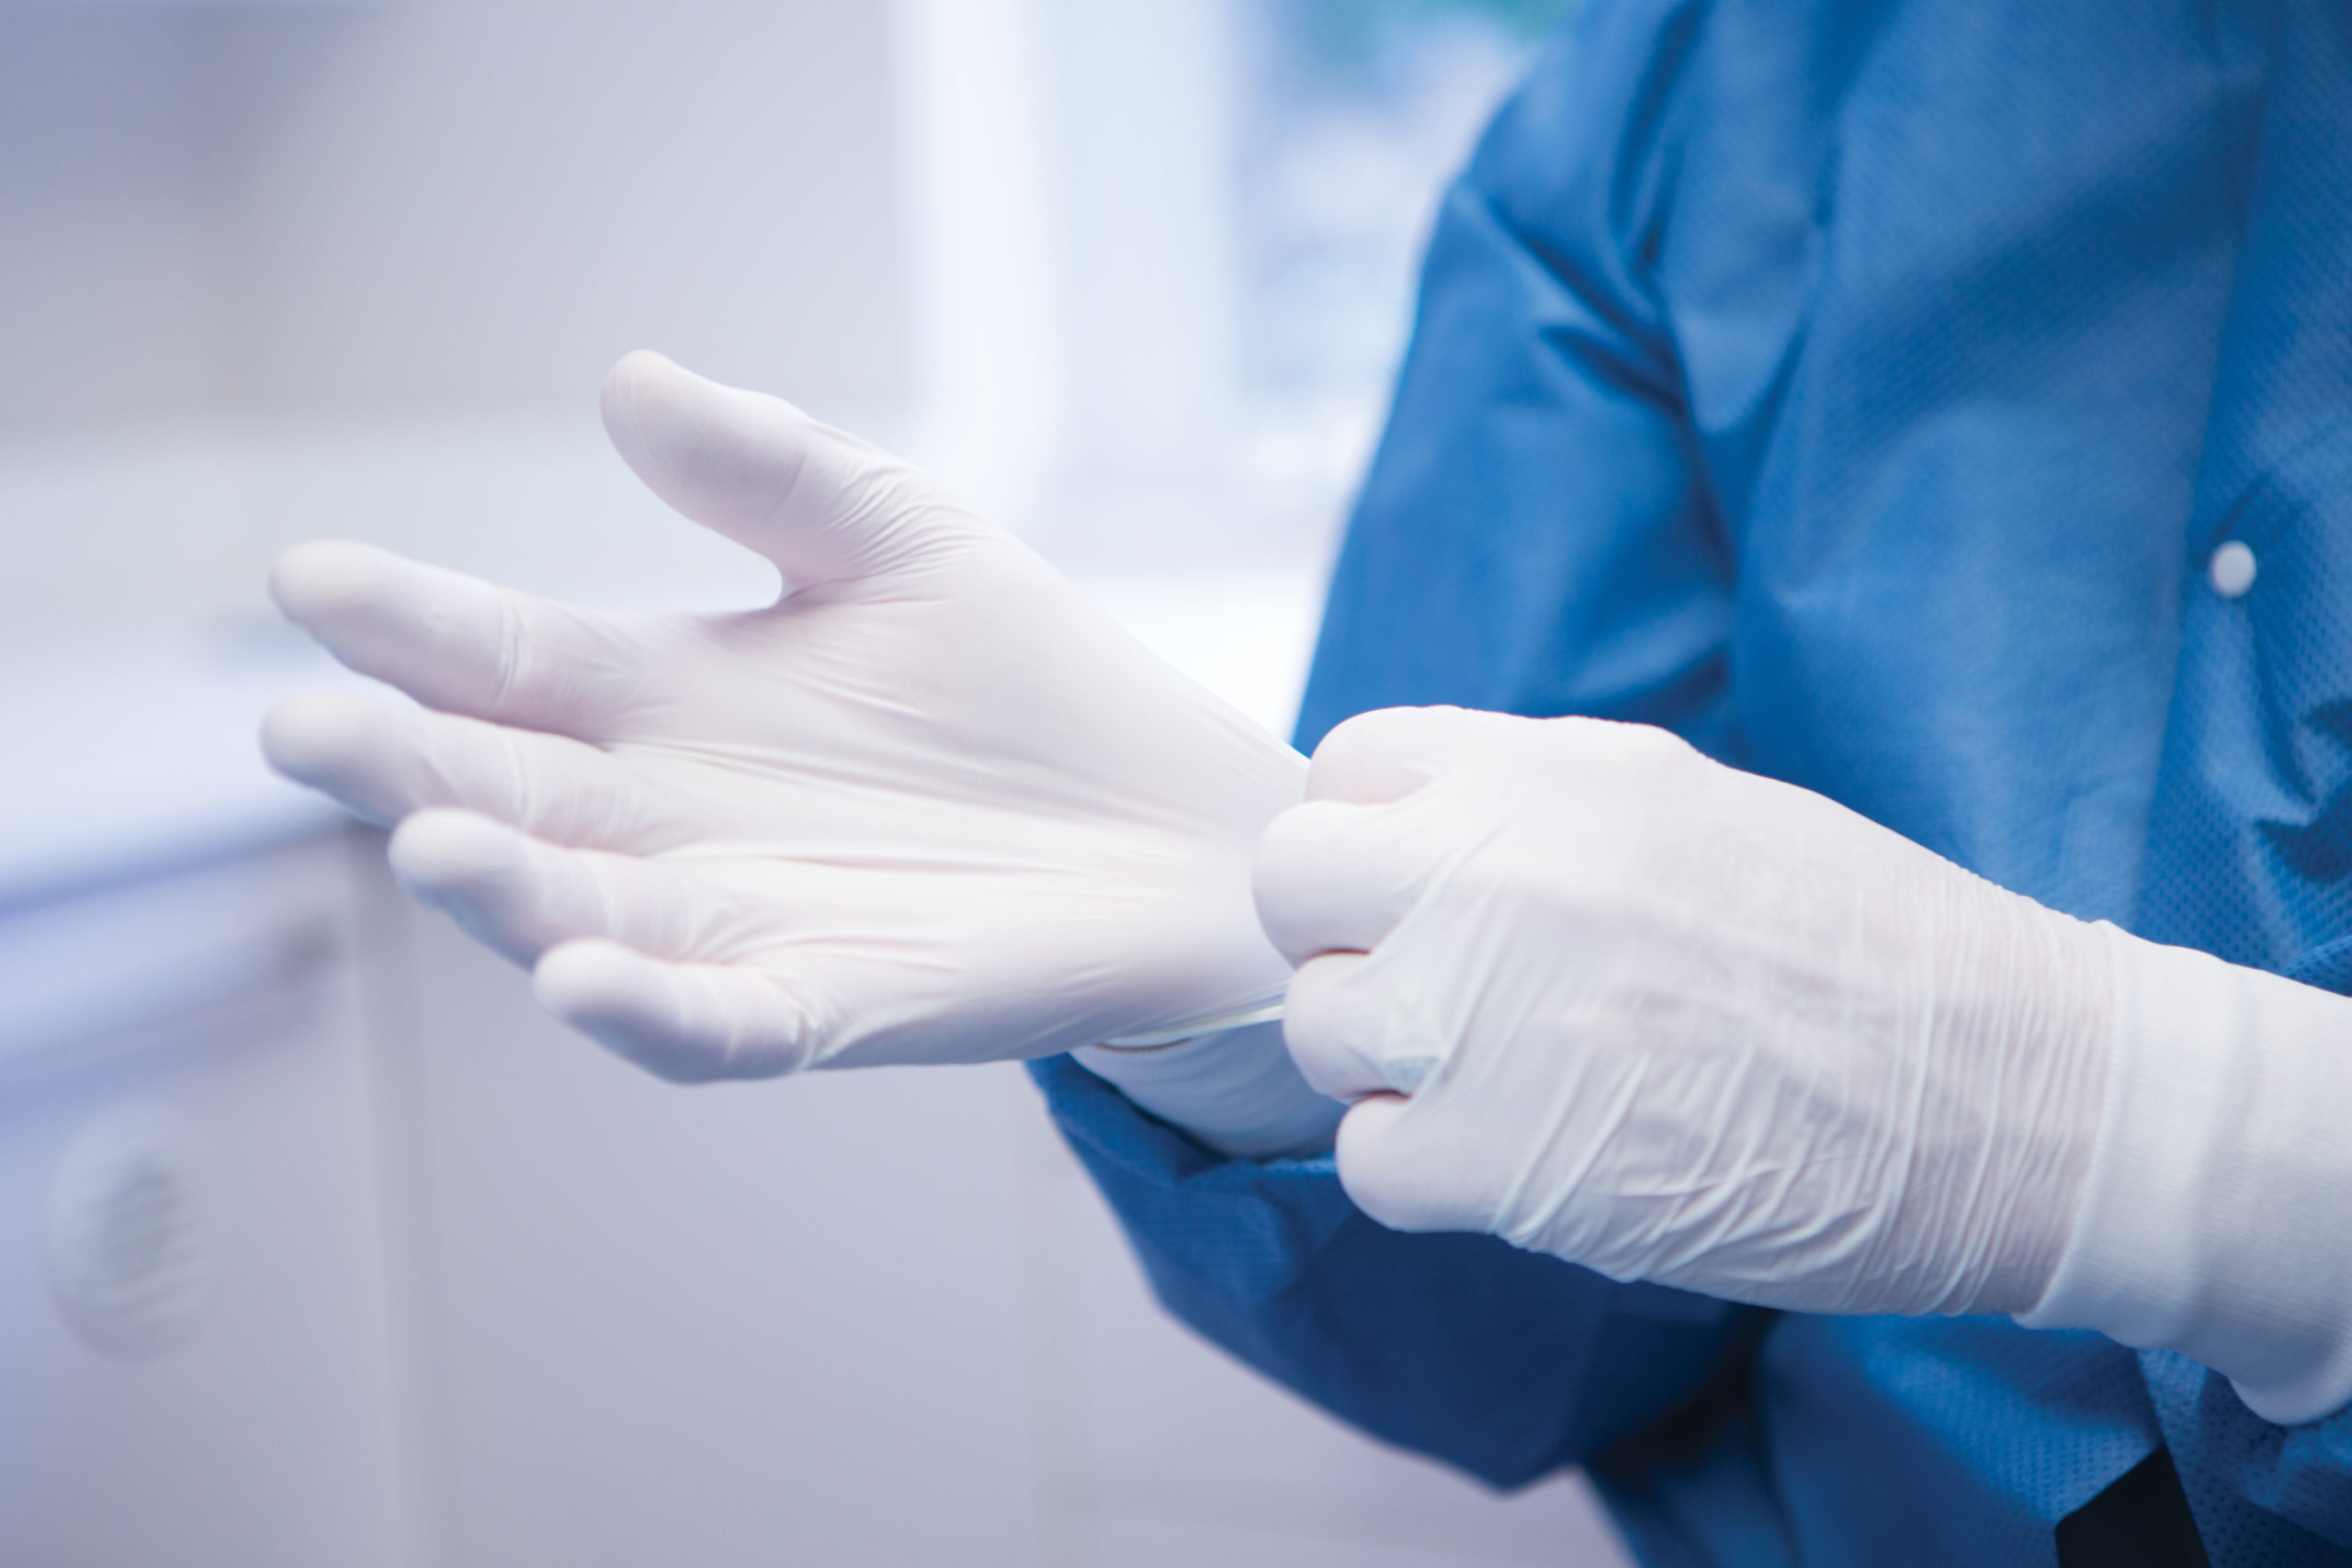Gloves: (240, 340, 1269, 1113), (1211, 658, 2231, 1370)
